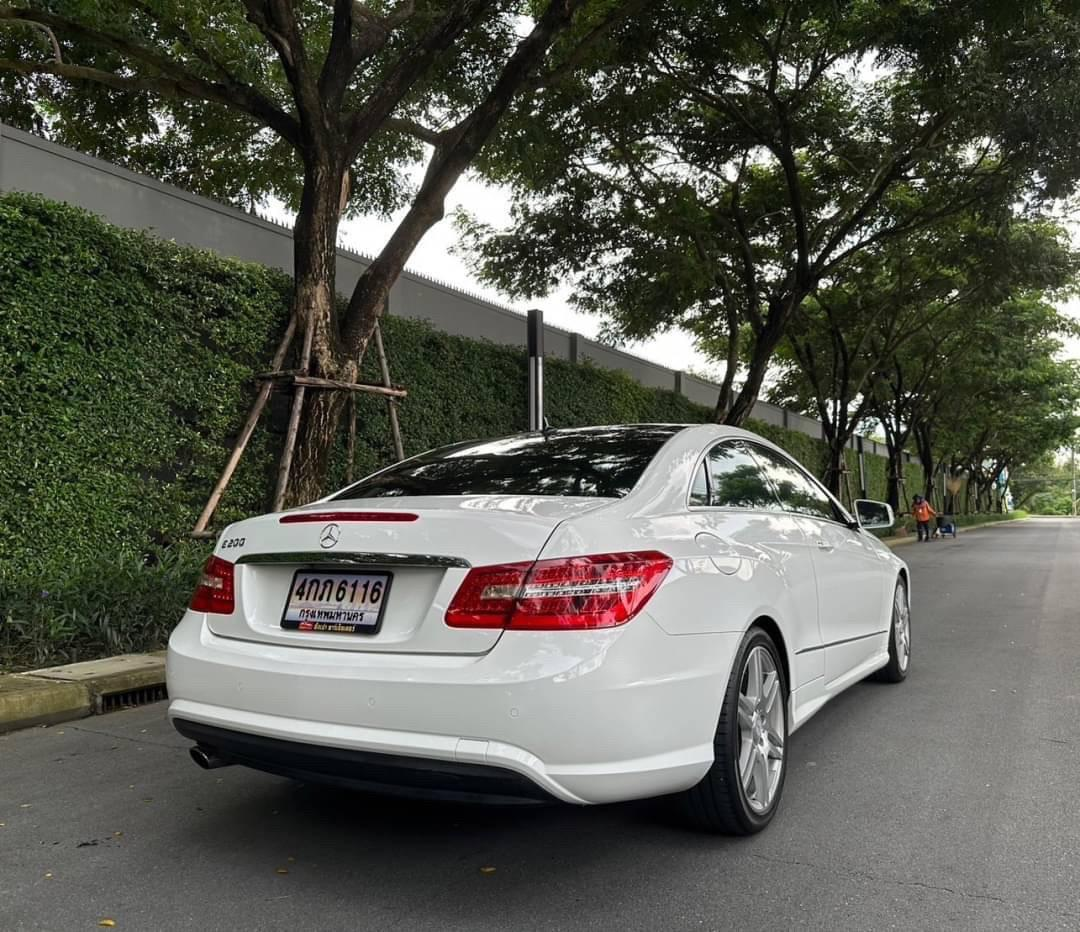license-plate: (283, 564, 393, 639)
